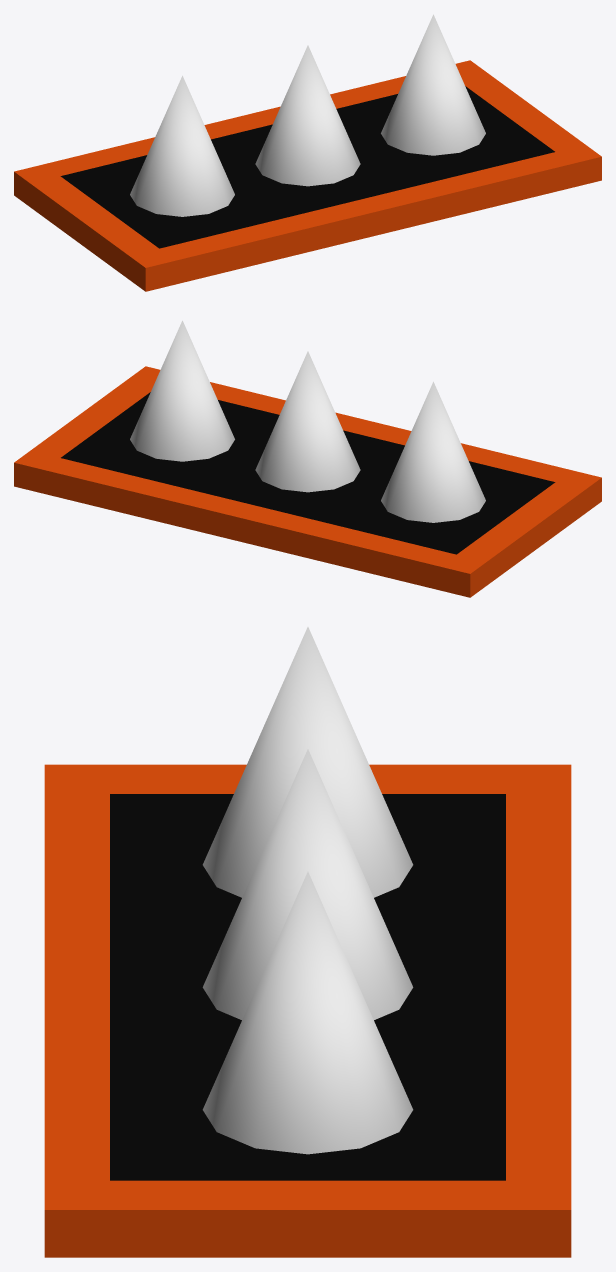
Rendered from spikes.fbx.
The picture shows the model from 3 angles, top to bottom: view 1: azimuth 30°, elevation 25°; view 2: azimuth 150°, elevation 25°; view 3: azimuth 270°, elevation 25°; orthographic projection. The views are drawn at different scales.
Visible parts, largest first — view 1: Plate, Spikes; view 2: Plate, Spikes; view 3: Plate, Spikes.
Part boxes in pixels (x1,y1,x2,y2): Plate: [14, 60, 601, 291]; Spikes: [130, 14, 485, 216]; Plate: [14, 366, 601, 597]; Spikes: [130, 320, 485, 522]; Plate: [44, 764, 571, 1257]; Spikes: [202, 627, 413, 1154].
Bounding box in the file's own units: 400 × 120 × 200.
